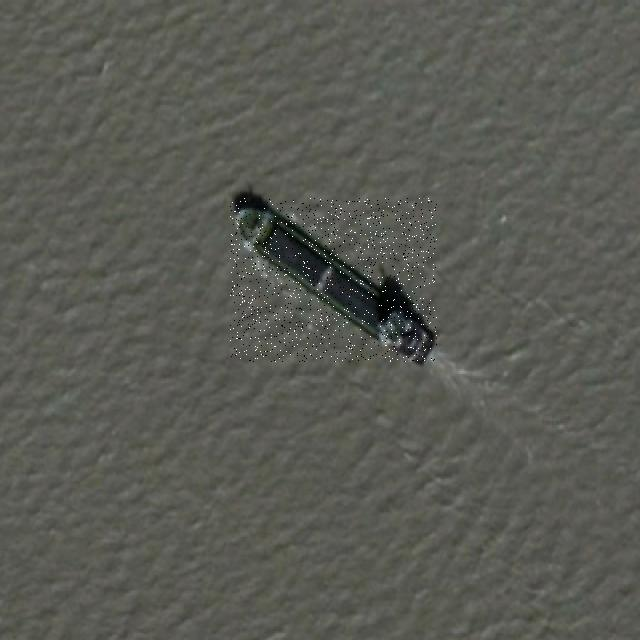boat: (230, 198, 437, 362)
